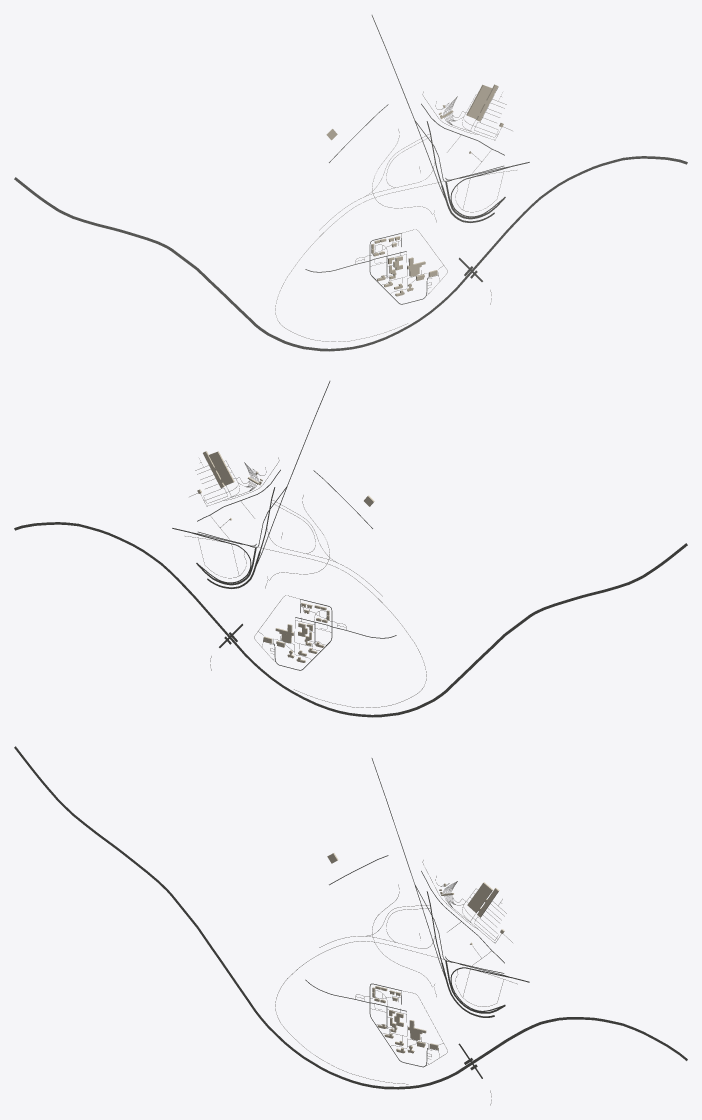
File: historic-palestine-07_25_3486_3199.glb
The picture shows the model from 3 angles, top to bottom: view 1: azimuth 30°, elevation 25°; view 2: azimuth 150°, elevation 25°; view 3: azimuth 330°, elevation 25°; orthographic projection.
Parts seen in each view (by area): view 1: Road הנתיב המהיר; view 2: Road הנתיב המהיר; view 3: Road הנתיב המהיר.
Part boxes in pixels (x1,y1,x2,y2): Road הנתיב המהיר: (14,156,687,351); Road הנתיב המהיר: (14,522,687,717); Road הנתיב המהיר: (14,746,687,1089).
Bounding box in the file's own units: 3327 × 1559 × 8.7.
